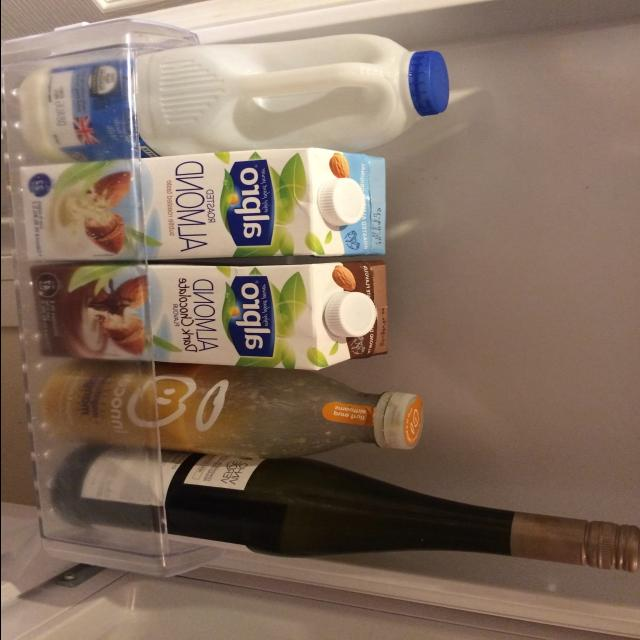Clear plastic bottle: (40, 359, 423, 459)
Drink carton: (18, 147, 386, 263), (29, 260, 387, 370)
Glass bottle: (50, 444, 640, 574)
Metal bottle cap: (597, 521, 640, 574)
Other plastic container: (18, 33, 448, 163)
Plastic bottle cap: (408, 50, 448, 116), (316, 178, 364, 226), (324, 292, 375, 337), (383, 392, 423, 449)
